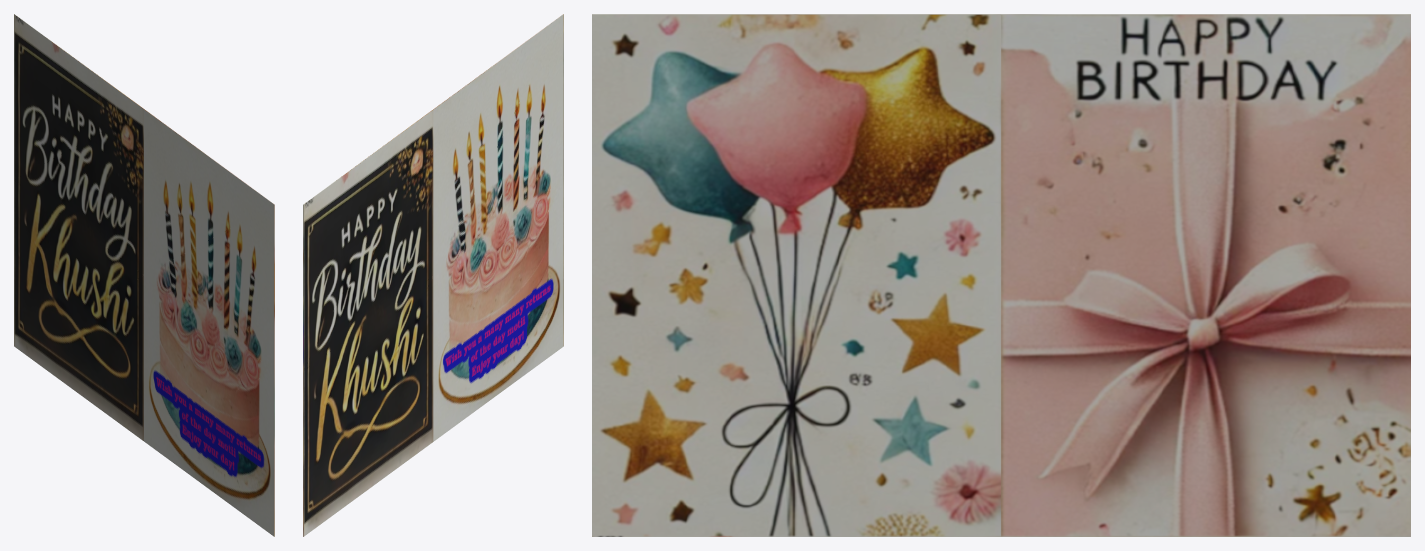
The model's file is birthday_card.glb.
The picture shows the model from 3 angles, left to right: view 1: azimuth 30°, elevation 25°; view 2: azimuth 150°, elevation 25°; view 3: azimuth 270°, elevation 25°; orthographic projection. The views are drawn at different scales.
Parts seen in each view (by area): view 1: Cube; view 2: Cube; view 3: Cube.
Boxes of the visible parts, x1=… form: Cube: x1=14, y1=14, x2=274, y2=536; Cube: x1=303, y1=14, x2=563, y2=536; Cube: x1=592, y1=14, x2=1410, y2=536.
Size of the model in its own units: 0.00284 by 2 by 2.84.
1 material, 1 textured.
